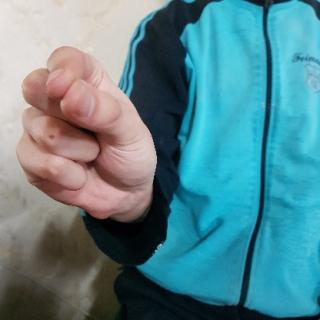FAA: (13, 42, 167, 221)
